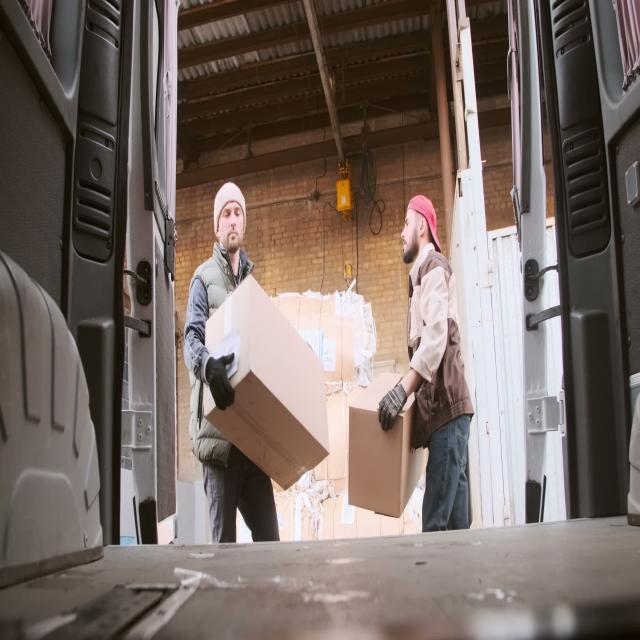counting-the-number-of-boxes: (203, 273, 330, 492), (348, 372, 427, 518)
